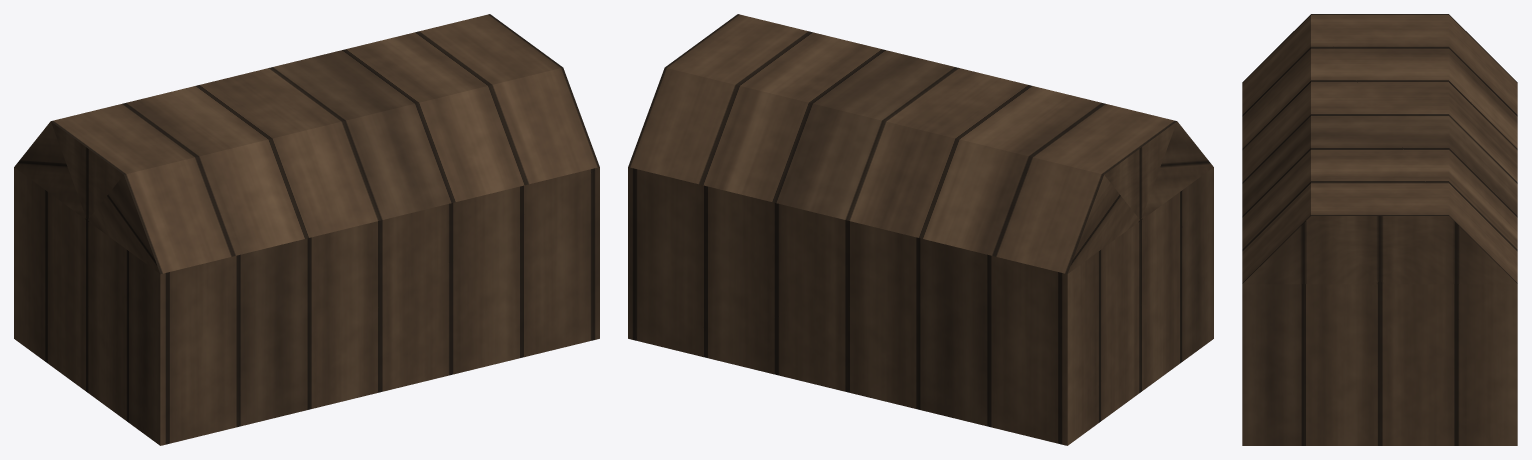
The model's file is Chest_Wood_LOD2.gltf.
3 views of the same model, side by side, from view 1: azimuth 30°, elevation 25°; view 2: azimuth 150°, elevation 25°; view 3: azimuth 270°, elevation 25° (orthographic). The views are drawn at different scales.
Visible parts, largest first — view 1: Chest_Wood_LOD2; view 2: Chest_Wood_LOD2; view 3: Chest_Wood_LOD2.
Part boxes in pixels (box(x1,y1,x2,y2)): Chest_Wood_LOD2: box(14, 14, 599, 445); Chest_Wood_LOD2: box(628, 14, 1213, 445); Chest_Wood_LOD2: box(1242, 14, 1517, 445).
Size of the model in its own units: 1.24 by 0.6591 by 0.7153.
1 material, 1 textured.
